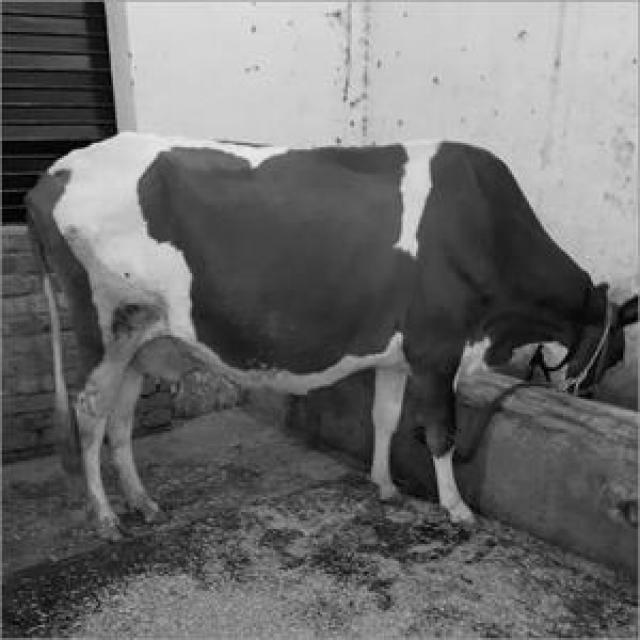cow: (26, 132, 639, 539)
